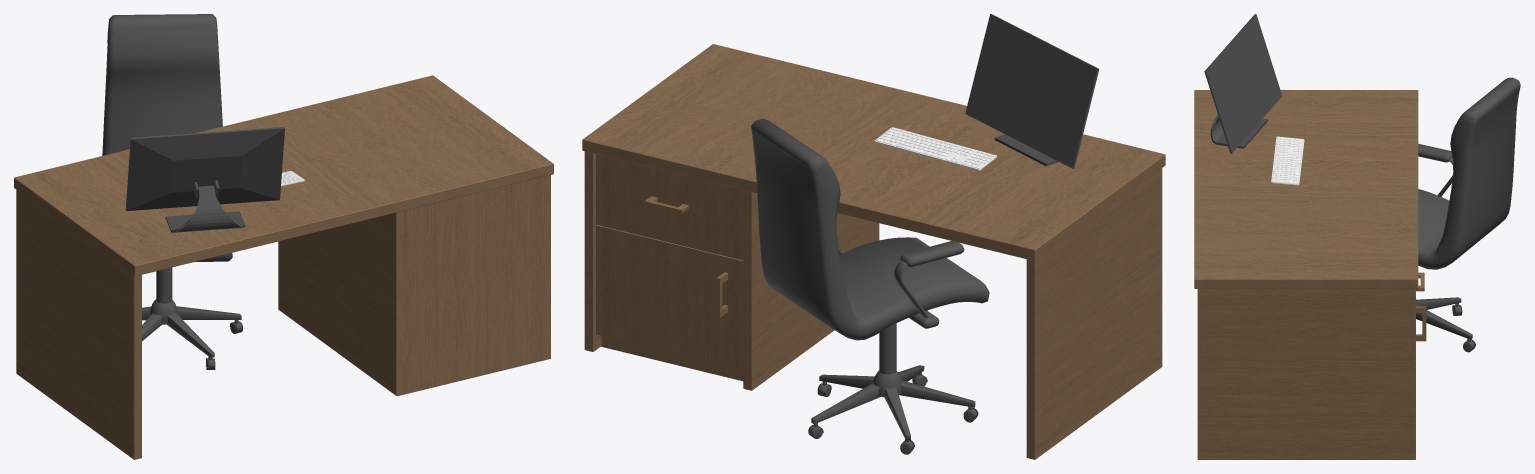
Rendered from deskchaircomputer.gltf.
3 views of the same model, side by side, from view 1: azimuth 30°, elevation 25°; view 2: azimuth 150°, elevation 25°; view 3: azimuth 270°, elevation 25° (orthographic). The views are drawn at different scales.
Parts seen in each view (by area): view 1: desk_Handle2.009, desk_Handle2.007, desk_Handle2.010, chairseat_Untitled.001, desk_Handle2.008, monitorbase_Cube.002; view 2: desk_Handle2.009, chairseat_Untitled.001, desk_Handle2.010, desk_Handle2.002, monitorbase_Cube.002, desk_Handle2.003, desk_Handle2.008, desk_Handle2, keyboard_pCube1_KEYS_KEYBOARD.002, desk_Handle2.005; view 3: desk_Handle2.009, desk_Handle2, chairseat_Untitled.001, monitorbase_Cube.002, keyboard_pCube1_KEYS_KEYBOARD.002.
Part boxes in pixels (x1=…): desk_Handle2.009: x1=14, y1=75, x2=553, y2=276; desk_Handle2.007: x1=396, y1=175, x2=550, y2=396; desk_Handle2.010: x1=16, y1=190, x2=141, y2=459; chairseat_Untitled.001: x1=102, y1=14, x2=243, y2=369; desk_Handle2.008: x1=278, y1=212, x2=396, y2=395; monitorbase_Cube.002: x1=125, y1=127, x2=284, y2=232; desk_Handle2.009: x1=582, y1=44, x2=1165, y2=260; chairseat_Untitled.001: x1=751, y1=118, x2=989, y2=454; desk_Handle2.010: x1=1026, y1=168, x2=1162, y2=459; desk_Handle2.002: x1=596, y1=225, x2=743, y2=370; monitorbase_Cube.002: x1=965, y1=14, x2=1099, y2=168; desk_Handle2.003: x1=596, y1=154, x2=743, y2=260; desk_Handle2.008: x1=743, y1=190, x2=879, y2=390; desk_Handle2: x1=584, y1=151, x2=601, y2=351; keyboard_pCube1_KEYS_KEYBOARD.002: x1=874, y1=127, x2=996, y2=170; desk_Handle2.005: x1=601, y1=336, x2=743, y2=381; desk_Handle2.009: x1=1194, y1=90, x2=1418, y2=288; desk_Handle2: x1=1197, y1=289, x2=1415, y2=459; chairseat_Untitled.001: x1=1416, y1=77, x2=1520, y2=352; monitorbase_Cube.002: x1=1204, y1=14, x2=1282, y2=153; keyboard_pCube1_KEYS_KEYBOARD.002: x1=1271, y1=136, x2=1304, y2=185.
Bounding box in the file's own units: 6.35 × 4.24 × 4.63.
Materials: 5 (2 with a texture image).
